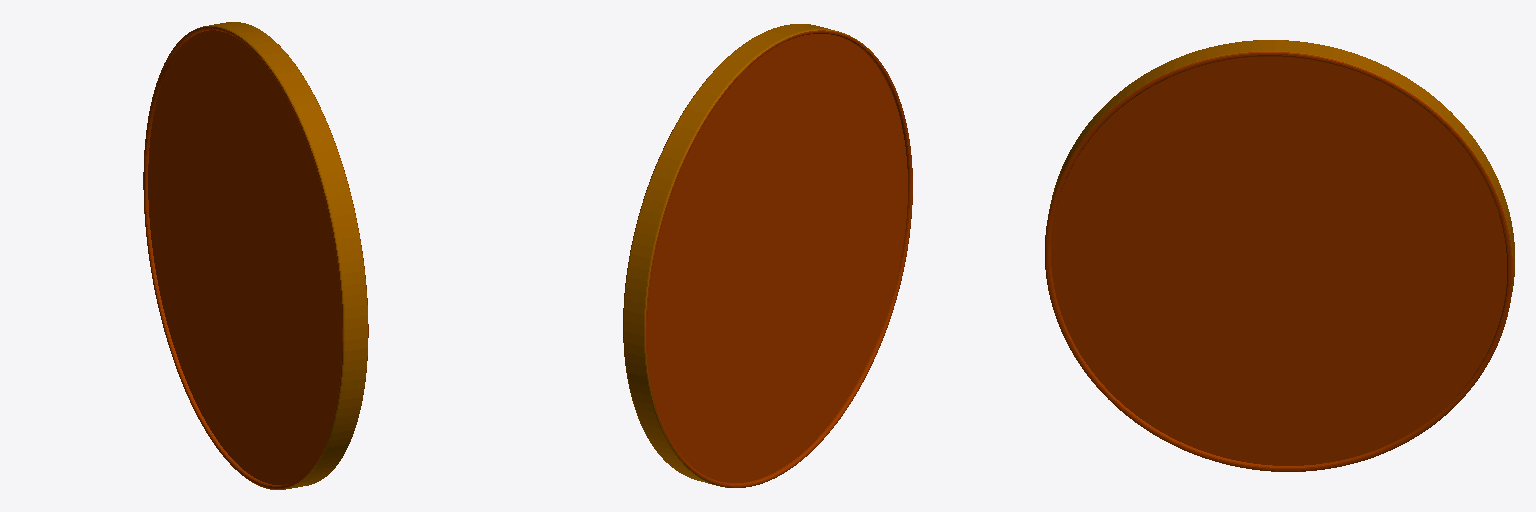
Rendered from Coin.obj.
The picture shows the model from 3 angles: view 1: azimuth 30°, elevation 25°; view 2: azimuth 150°, elevation 25°; view 3: azimuth 270°, elevation 25°; orthographic projection.
Visible parts, largest first — view 1: Coin_Circle.003; view 2: Coin_Circle.003; view 3: Coin_Circle.003.
Boxes of the visible parts, box(x1,y1,x2,y2) form: Coin_Circle.003: box(143, 22, 368, 489); Coin_Circle.003: box(623, 24, 912, 487); Coin_Circle.003: box(1045, 40, 1514, 471).
Bounding box in the file's own units: 0.255 × 1.74 × 1.74.